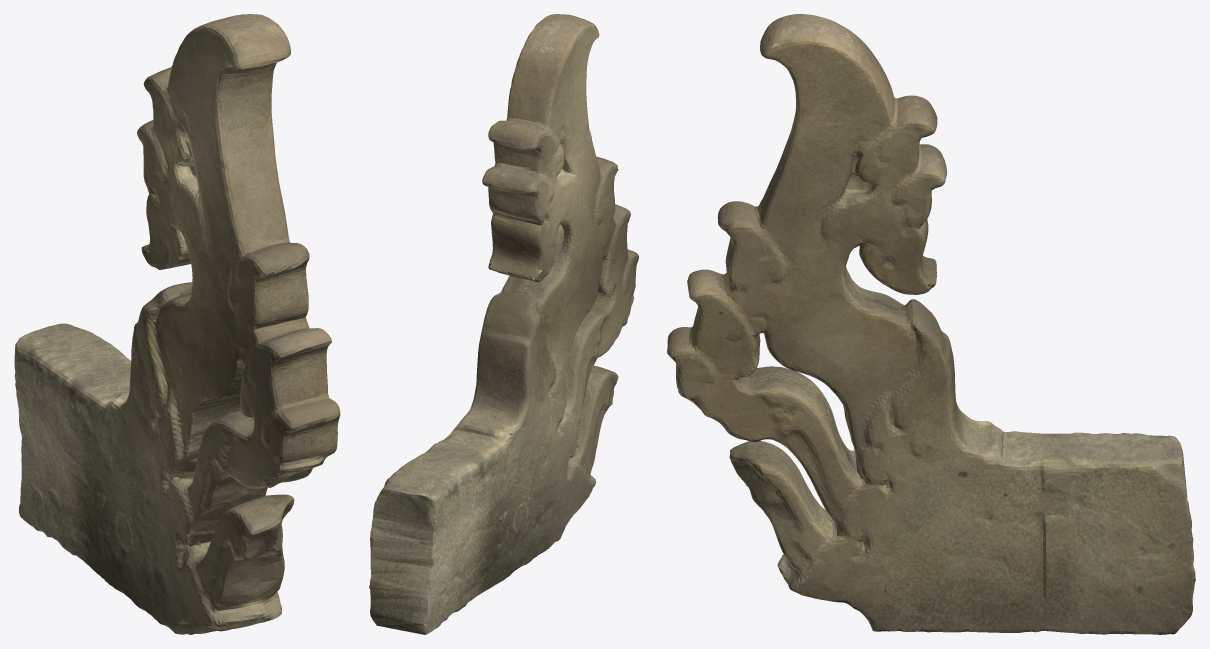
The model's file is 26_vattrangtri_final.glb.
The picture shows the model from 3 angles, left to right: view 1: azimuth 30°, elevation 25°; view 2: azimuth 150°, elevation 25°; view 3: azimuth 270°, elevation 25°; orthographic projection. The views are drawn at different scales.
Bounding box in the file's own units: 0.0956 × 0.7552 × 0.6077.
1 material, 1 textured.
